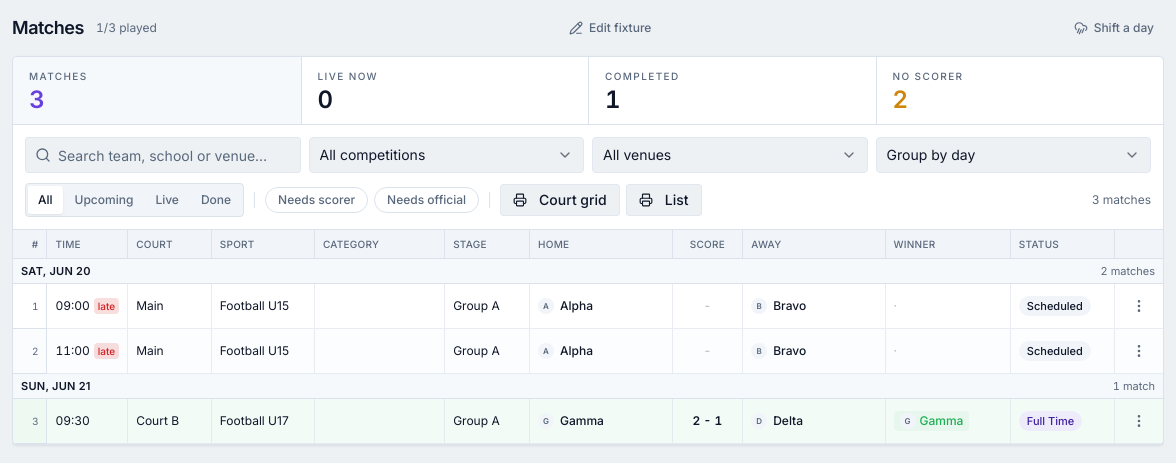
Test: MatchesBoardPage › filters to matches needing a scorer
The width and height of the screenshot is (1176, 463).
Expected: the row with test id "tile-m1" is shown, [13,284,1163,329]
Click the button with test id "board-needs-scorer".
click(317, 200)  # box [265,187,368,213]
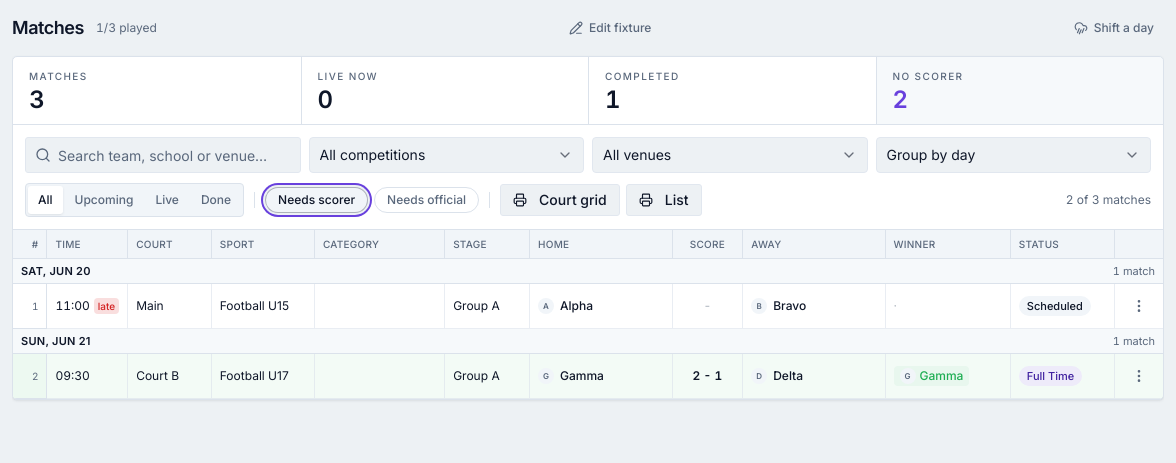
Expected: the row with test id "tile-m2" is shown, [13,284,1163,329]
Result: the row with test id "tile-m1" is gone
